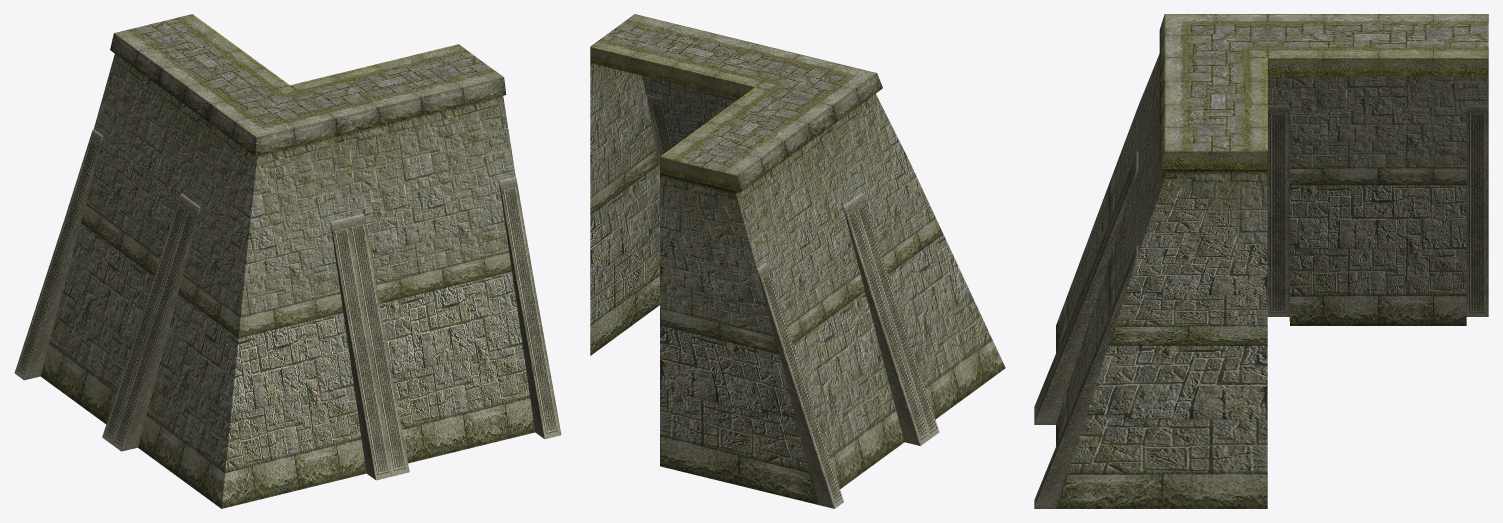
File: secret_bigwall_corner_01.fbx
The picture shows the model from 3 angles, left to right: view 1: azimuth 30°, elevation 25°; view 2: azimuth 150°, elevation 25°; view 3: azimuth 270°, elevation 25°; orthographic projection. The views are drawn at different scales.
Parts seen in each view (by area): view 1: secret_bigwall_corner_01; view 2: secret_bigwall_corner_01; view 3: secret_bigwall_corner_01.
Boxes of the visible parts, x1,y1,x2,y2 form: secret_bigwall_corner_01: (14,14,561,508); secret_bigwall_corner_01: (590,14,1005,508); secret_bigwall_corner_01: (1034,14,1488,508).
Size of the model in its own units: 20.57 by 17.9 by 20.57.
